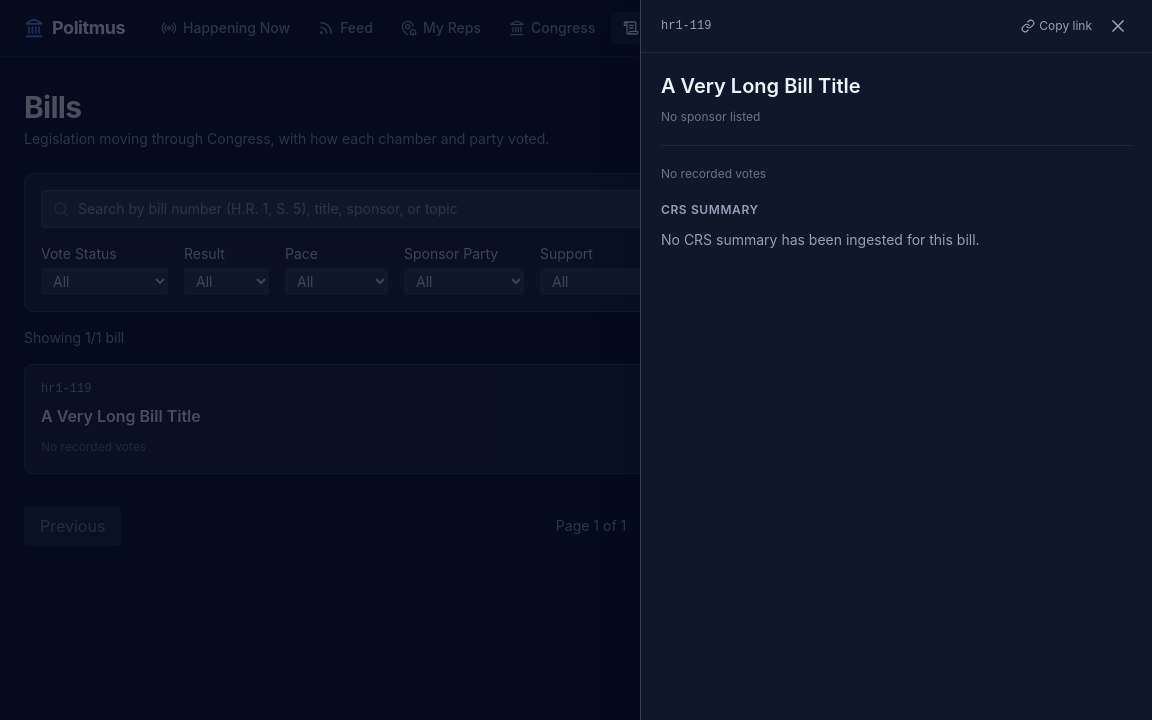
Scenario: Member and bill drawers › opens a bill on its own and drops the param when closed
Expected: the heading "A Very Long Bill Title" is shown, [661,74,861,98]
Click the button named "Close". click: point(1118, 26)
box: [1104,12,1132,40]
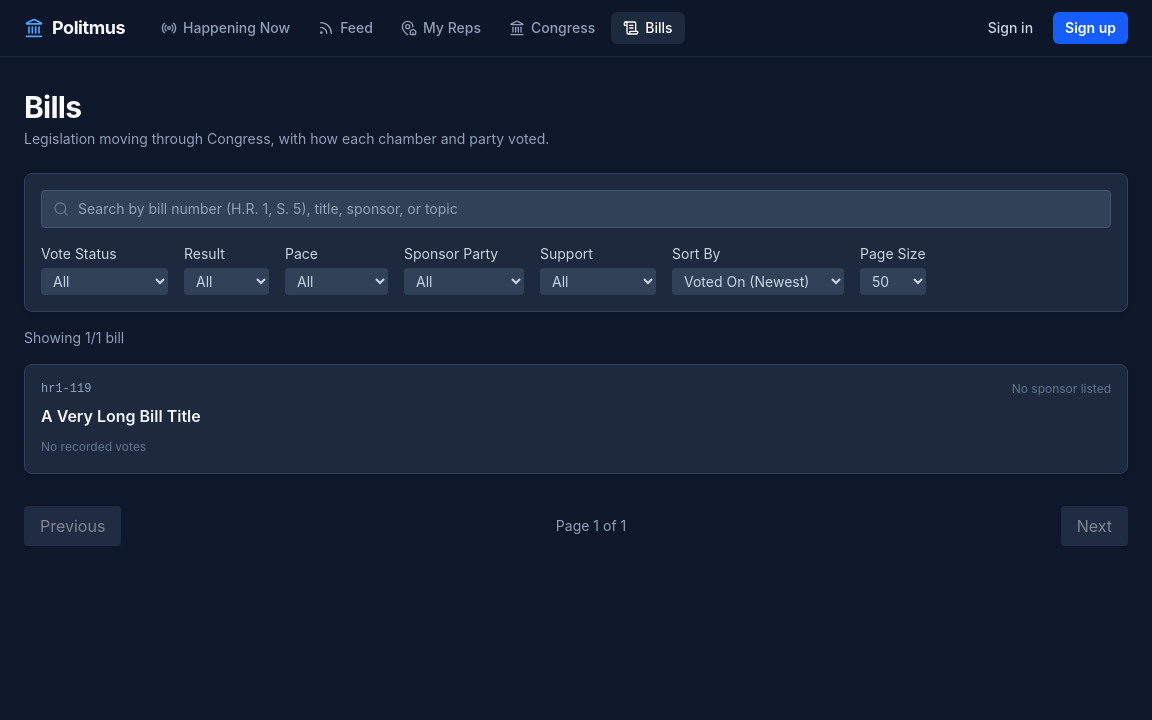
Now the dialog is gone
